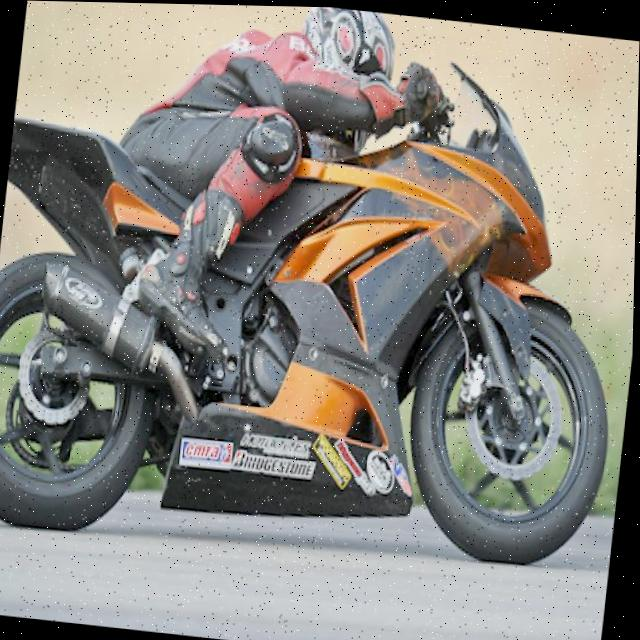motorcycle: (0, 19, 640, 590)
